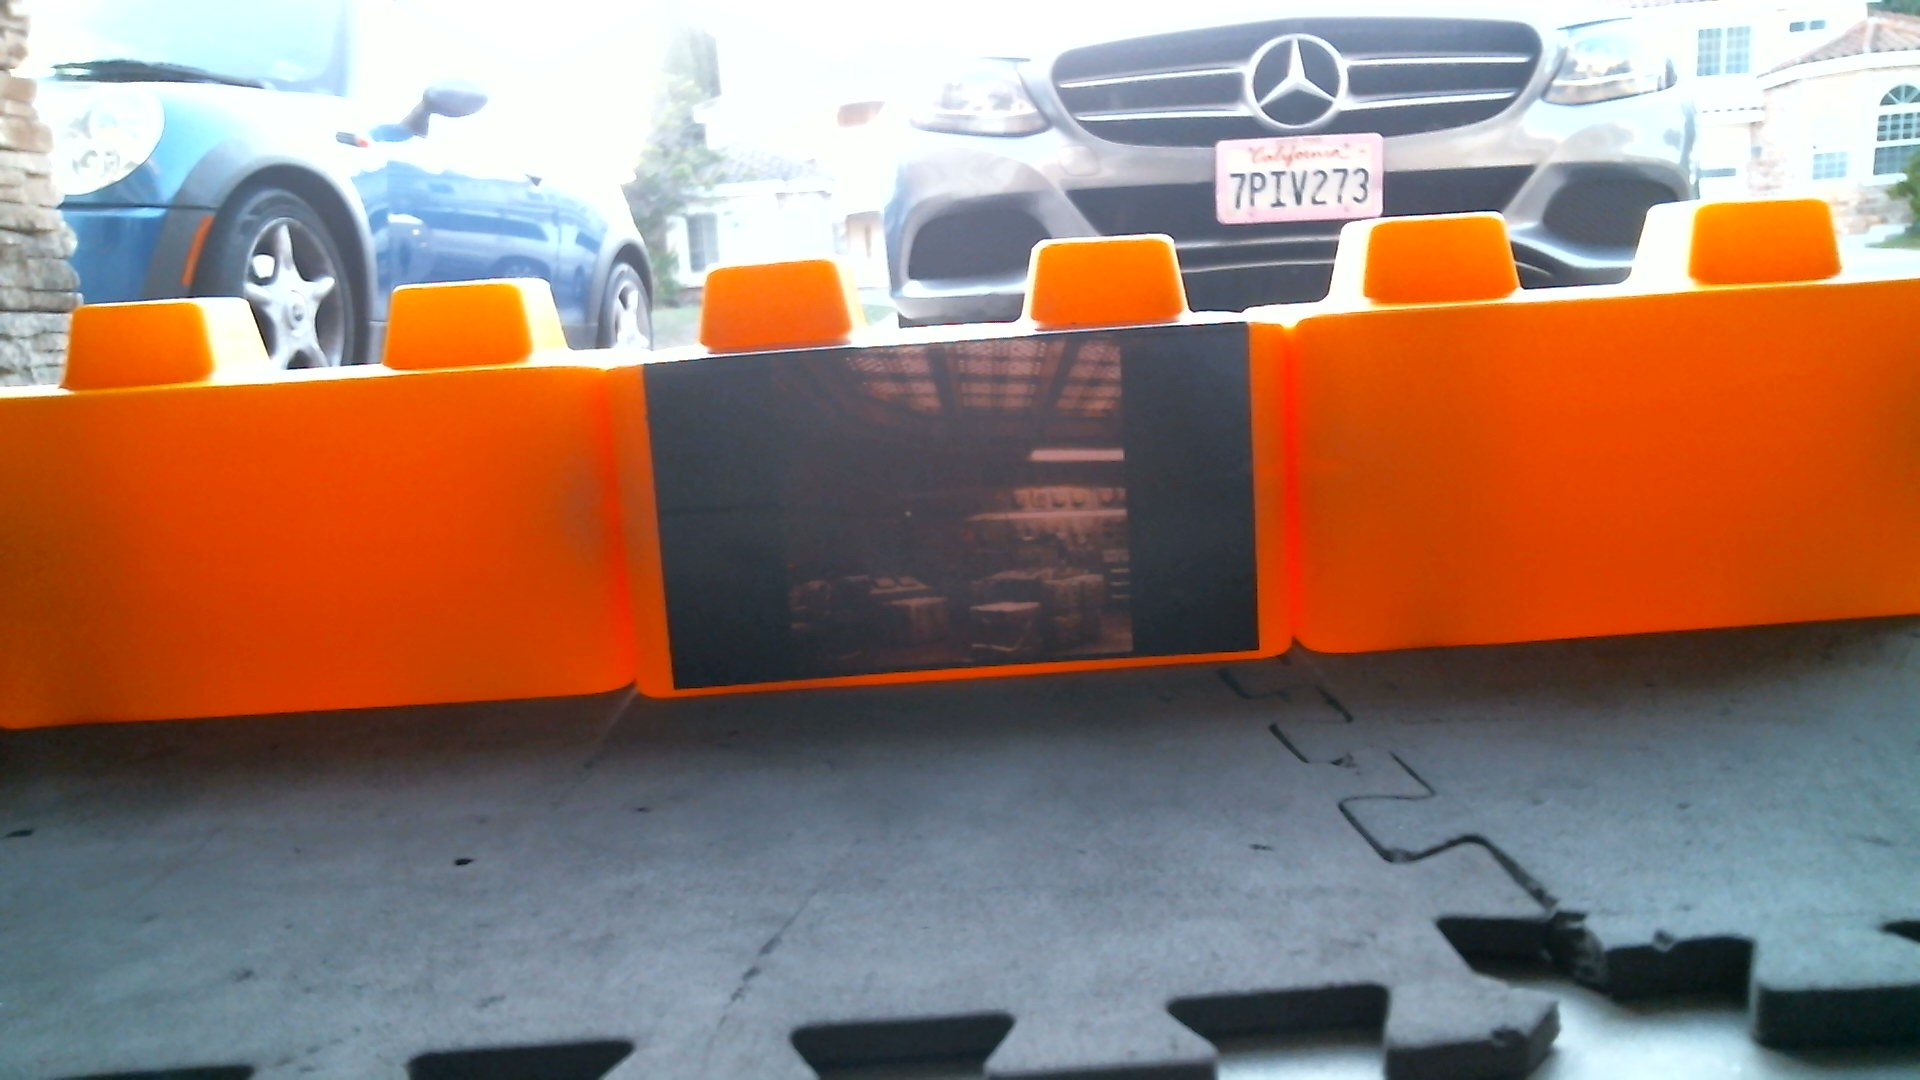center: (12, 170, 1920, 752)
